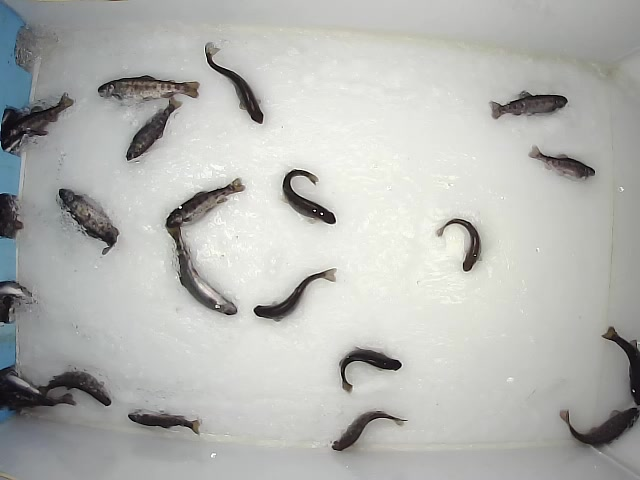fish: (160, 226, 239, 316), (202, 40, 266, 126), (253, 265, 337, 324), (55, 186, 121, 256), (164, 177, 246, 231), (125, 93, 182, 163), (330, 407, 409, 452), (557, 406, 640, 447), (280, 167, 336, 227), (95, 74, 199, 106), (8, 91, 76, 138), (338, 344, 402, 393), (603, 326, 640, 407), (36, 370, 112, 406), (527, 143, 598, 181), (435, 218, 485, 271), (488, 89, 570, 120), (126, 405, 202, 436), (1, 391, 77, 413)
